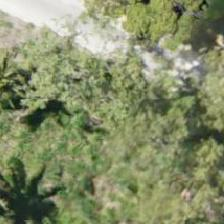coconut_tree: (0, 36, 46, 126)
